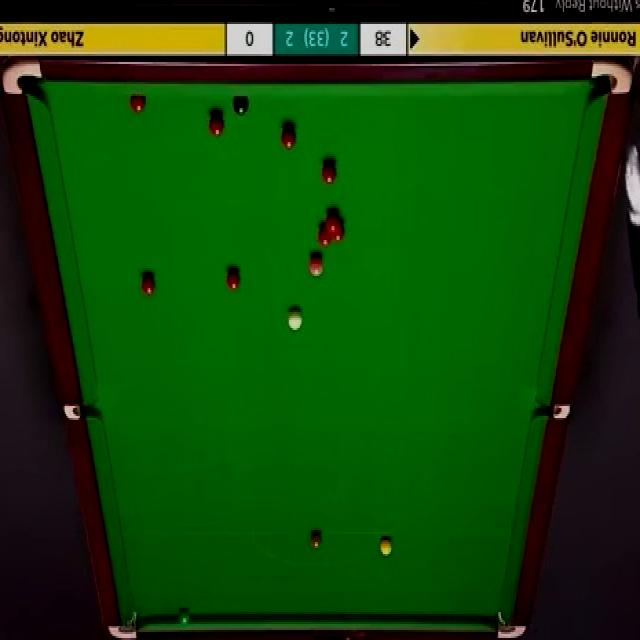black-ball: (233, 97, 250, 117)
brown-ball: (309, 529, 323, 552)
green-ball: (177, 610, 190, 626)
pink-ball: (308, 255, 324, 278)
red-ball: (281, 123, 297, 151), (208, 112, 225, 138), (321, 160, 336, 185), (226, 268, 242, 291), (141, 274, 155, 296), (129, 95, 145, 114), (326, 210, 339, 232), (318, 225, 331, 247), (332, 228, 344, 241)
white-ball: (287, 308, 303, 332)
yellow-ball: (380, 537, 393, 557)
